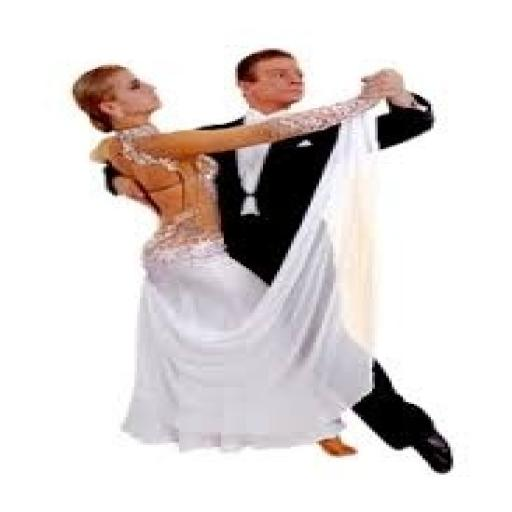dancing: (70, 54, 456, 475)
